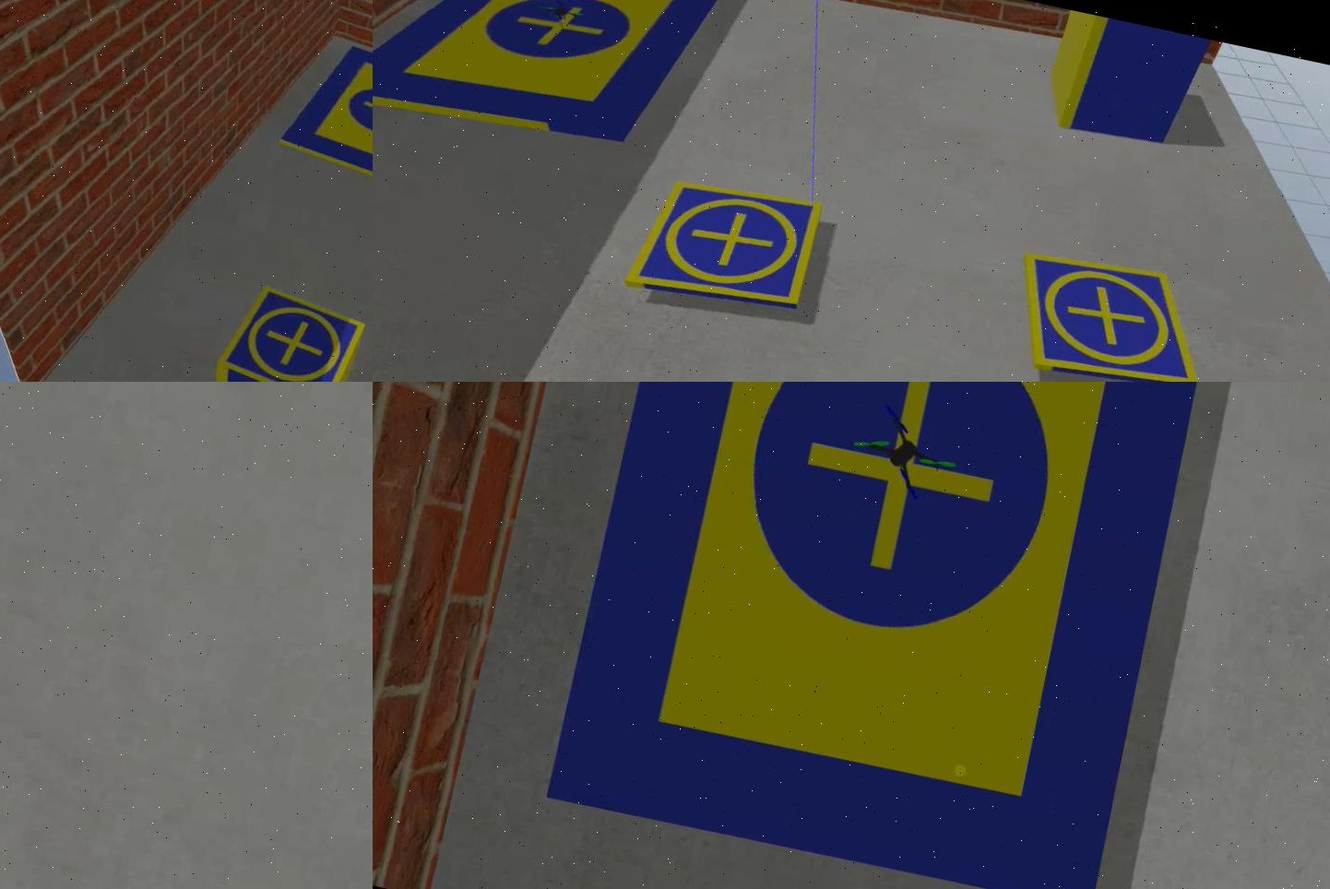large_base: (543, 382, 1215, 889), (371, 1, 729, 173), (276, 41, 371, 194)
small_base: (622, 165, 828, 326), (1000, 245, 1219, 382), (206, 277, 370, 382)
